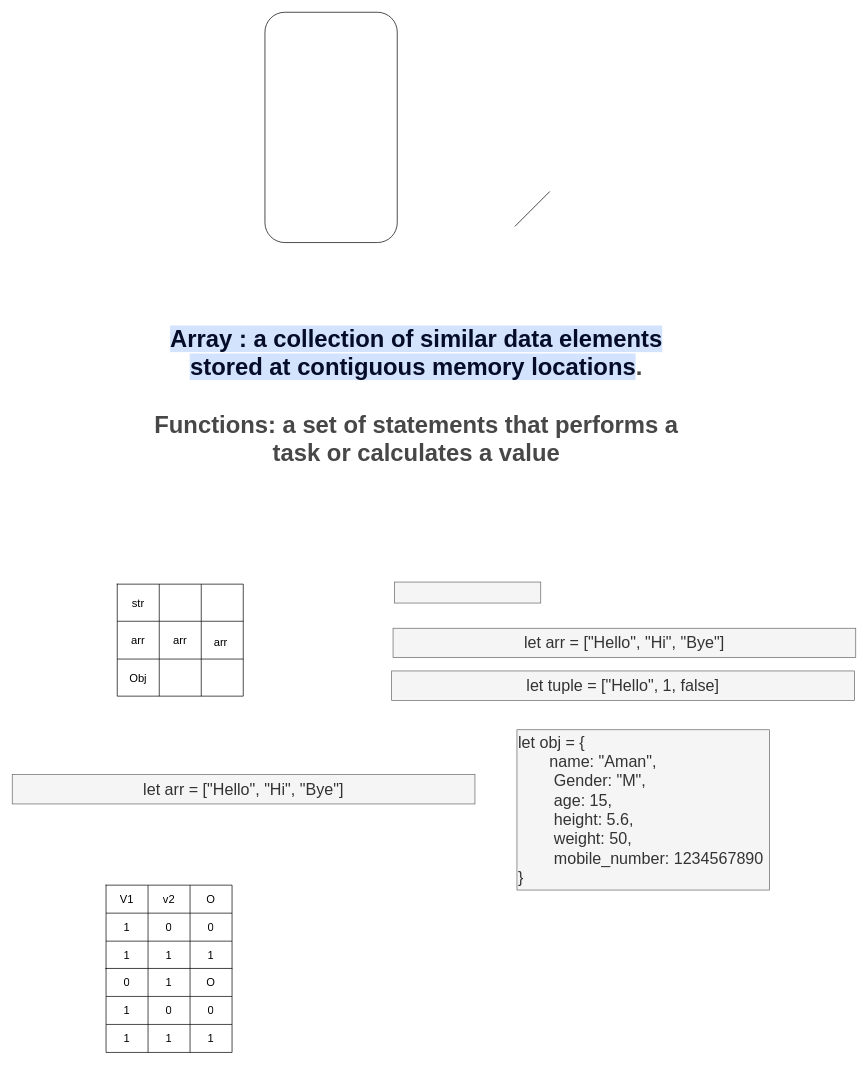
Some shapes in this 868 by 1065 pixel diagram are drawn without their labels. Each missing label, with the centre of its shape:
let str = "Hello": (x=467, y=592)
MEMORY: (x=330, y=127)
